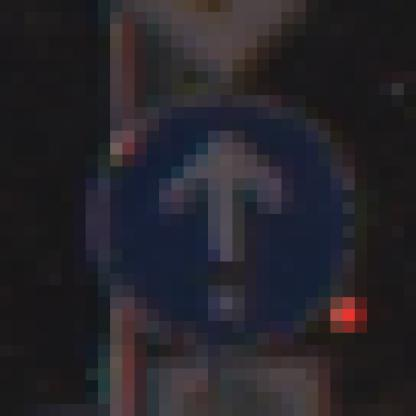AheadOnly: (62, 60, 344, 346)
